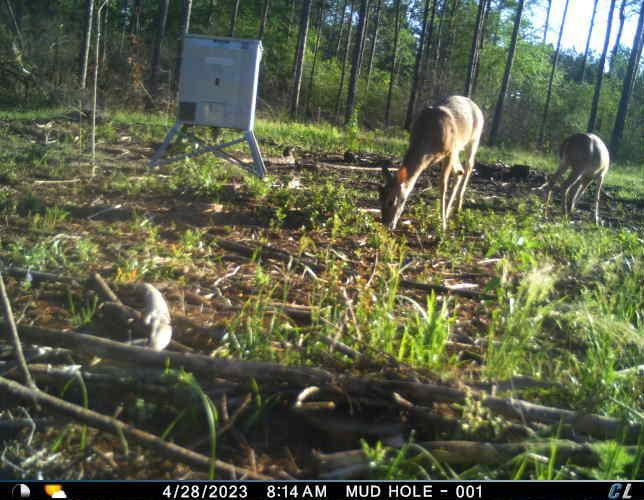Deer: (376, 91, 489, 239), (540, 131, 612, 229)
